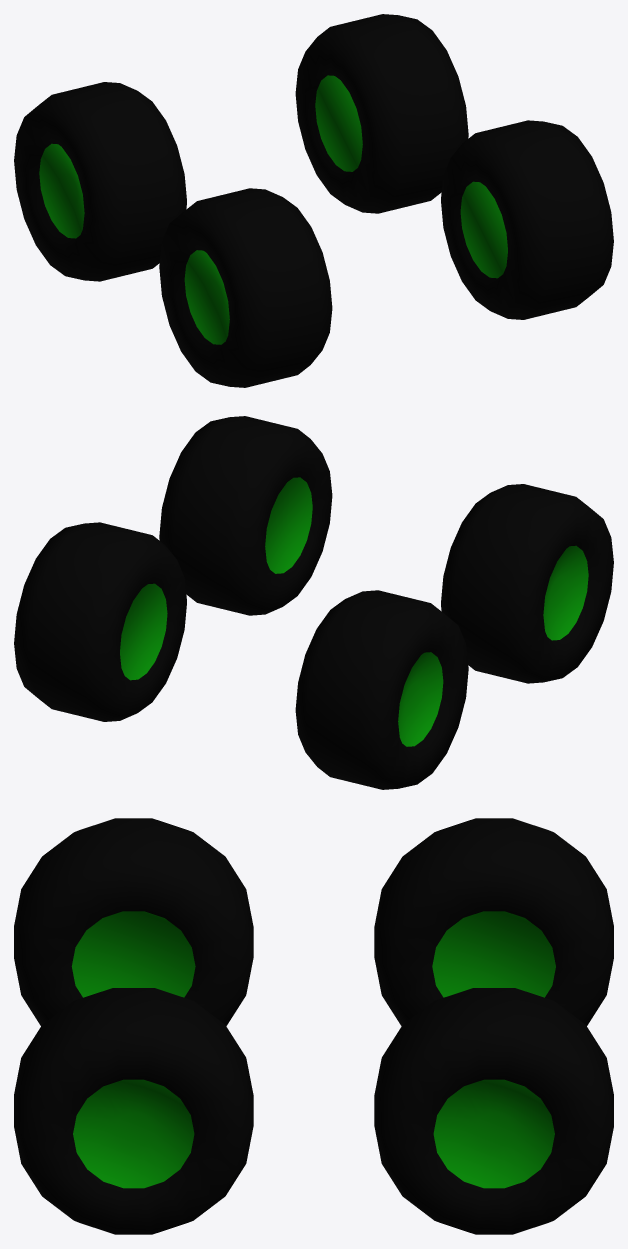
Rendered from 3D_CannonSimple_Wheels_MESH.fbx.
3 renders of one model, top to bottom at view 1: azimuth 30°, elevation 25°; view 2: azimuth 150°, elevation 25°; view 3: azimuth 270°, elevation 25°, orthographic. The views are drawn at different scales.
Parts seen in each view (by area): view 1: 3D_CannonSimple_Wheels_MESH; view 2: 3D_CannonSimple_Wheels_MESH; view 3: 3D_CannonSimple_Wheels_MESH.
Part boxes in pixels (<box>): 3D_CannonSimple_Wheels_MESH: <box>14,14,613,387</box>; 3D_CannonSimple_Wheels_MESH: <box>14,416,613,789</box>; 3D_CannonSimple_Wheels_MESH: <box>14,818,613,1234</box>.
Size of the model in its own units: 166 by 73.9 by 188.
